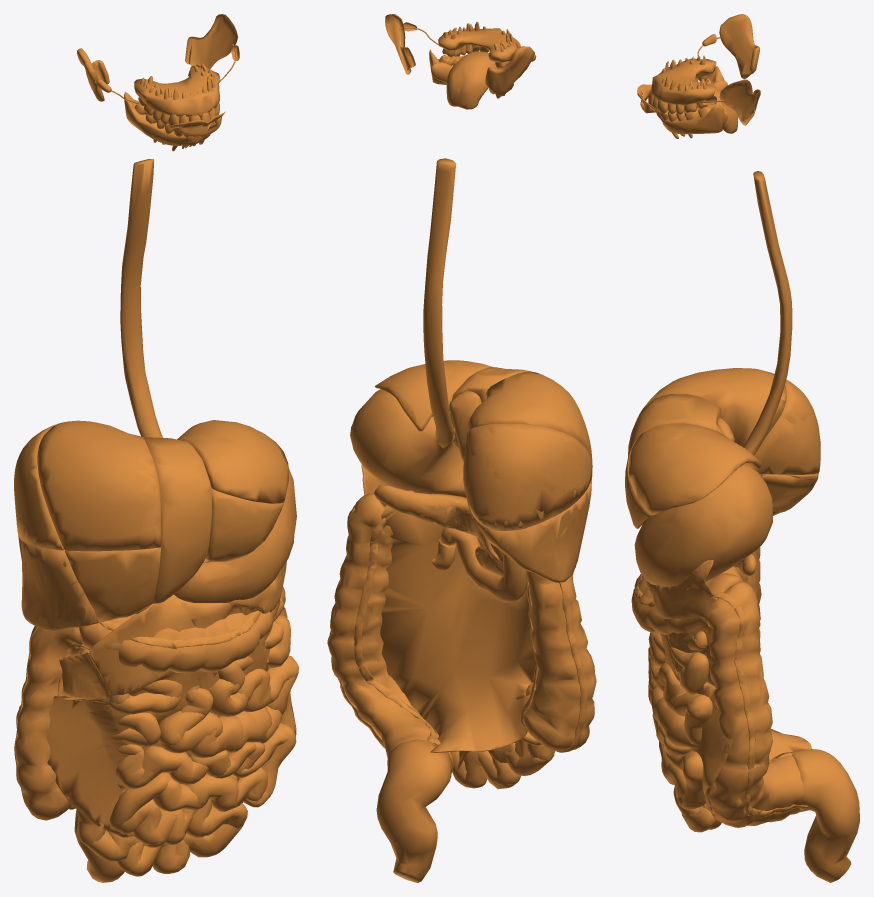
File: digestive.glb
3 renders of one model, left to right at view 1: azimuth 30°, elevation 25°; view 2: azimuth 150°, elevation 25°; view 3: azimuth 270°, elevation 25°, orthographic. The views are drawn at different scales.
Parts seen in each view (by area): view 1: ZA4AEB584D, FJ2824, FJ2820, FJ2566, FJ2818, FJ2563, FJ2572, FJ2564, FJ2821, FJ2819, FJ2409, FJ1858 (+36 smaller); view 2: FJ3398, FJ2567, FJ2566, FJ1858, FJ2564, FJ2571, FJ2563, FJ2824, FJ2823, FJ2409, FJ2818, FJ2573 (+12 smaller); view 3: FJ2567, FJ2564, FJ2818, FJ2571, ZA4AEB584D, FJ2824, FJ2563, FJ2823, FJ2820, FJ2570, FJ1252, FJ2572 (+14 smaller).
Boxes of the visible parts, <box> form: ZA4AEB584D: <box>46,561,296,845</box>; FJ2824: <box>37,420,161,551</box>; FJ2820: <box>144,437,212,603</box>; FJ2566: <box>15,627,82,820</box>; FJ2818: <box>177,420,288,503</box>; FJ2563: <box>120,159,162,437</box>; FJ2572: <box>79,600,280,672</box>; FJ2564: <box>174,468,296,602</box>; FJ2821: <box>65,547,160,622</box>; FJ2819: <box>206,487,283,561</box>; FJ2409: <box>19,537,95,631</box>; FJ1858: <box>14,422,64,550</box>; FJ3398: <box>380,503,535,752</box>; FJ2567: <box>327,493,453,772</box>; FJ2566: <box>523,571,596,751</box>; FJ1858: <box>467,423,592,530</box>; FJ2564: <box>350,389,466,497</box>; FJ2571: <box>376,739,452,882</box>; FJ2563: <box>423,158,456,447</box>; FJ2824: <box>468,371,592,459</box>; FJ2823: <box>463,424,588,530</box>; FJ2409: <box>473,475,592,582</box>; FJ2818: <box>375,360,493,431</box>; FJ2573: <box>439,527,527,602</box>; FJ2567: <box>704,582,804,827</box>; FJ2564: <box>634,464,772,586</box>; FJ2818: <box>628,423,760,514</box>; FJ2571: <box>790,749,859,882</box>; ZA4AEB584D: <box>646,560,738,795</box>; FJ2824: <box>638,368,786,446</box>; FJ2563: <box>743,171,792,463</box>; FJ2823: <box>753,380,820,474</box>; FJ2820: <box>628,394,722,456</box>; FJ2570: <box>633,574,808,817</box>; FJ1252: <box>650,58,716,105</box>; FJ2572: <box>631,573,741,634</box>.
Bounding box in the file's own units: 0.244 × 0.7461 × 0.1906.
